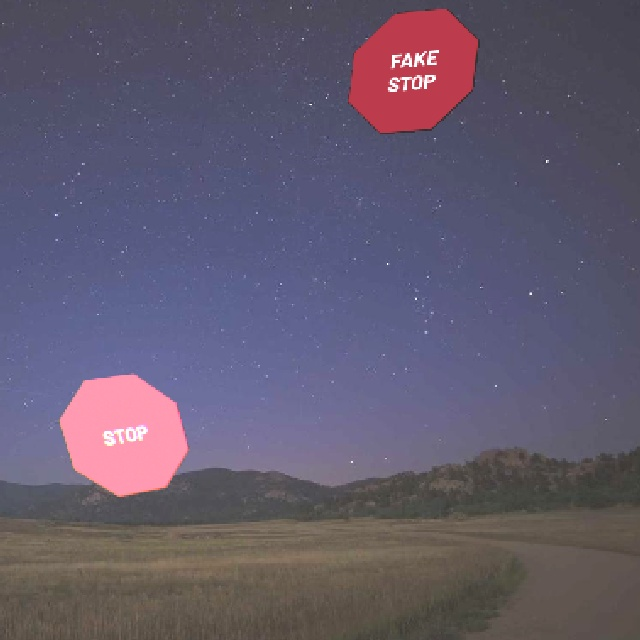FAKE_STOP: (346, 6, 478, 133)
STOP: (56, 371, 188, 496)
